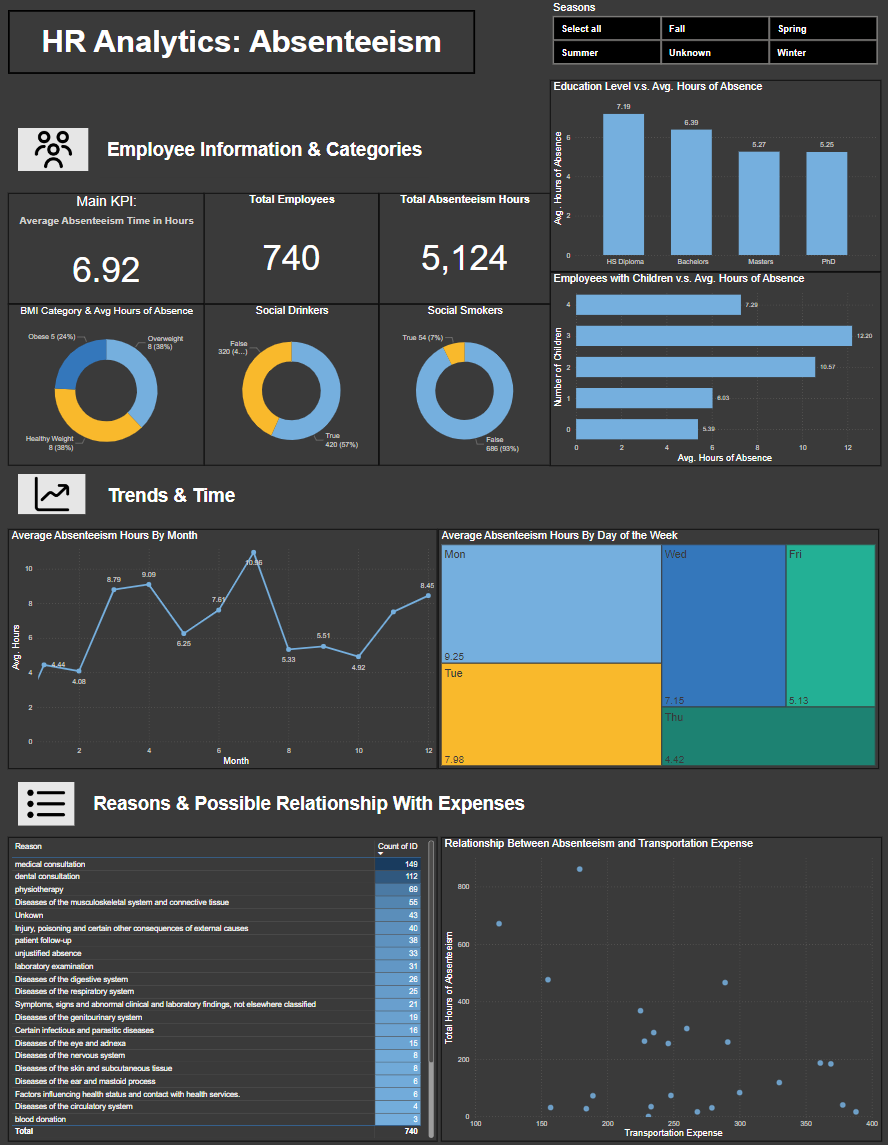

Layout of this report page (visuals, bound fields, positions):
{"tool":"powerbi","page":{"name":"Page 1","canvas":[1600,2000],"ordinal":0},"visuals":[{"type":"card","title":"Main KPI:","fields":{"Values":["Avg(Query2.Absenteeism_time_in_hours)"]},"box":[15.3,353.1,337.8,191.2],"z":0},{"type":"columnChart","title":"Education Level v.s. Avg. Hours of Absence","fields":{"Category":["Query2.Education_Level"],"Y":["Avg(Query2.Absenteeism_time_in_hours)"]},"box":[948.5,158.1,569.9,330.2],"z":1000},{"type":"donutChart","title":"BMI Category & Avg Hours of Absence","fields":{"Category":["Query2.BMI_Categeory"],"Y":["Avg(Query2.Absenteeism_time_in_hours)"]},"box":[15.3,544.4,337.8,277.9],"z":2000},{"type":"barChart","title":"Employees with Children v.s. Avg. Hours of Absence","fields":{"Category":["Query2.Children"],"Y":["Avg(Query2.Absenteeism_time_in_hours)"]},"box":[948.5,488.3,569.9,334],"z":3000},{"type":"donutChart","title":"Social Drinkers","fields":{"Y":["CountNonNull(Query2.ID)"],"Category":["Query2.Social_drinker"]},"box":[353.1,544.4,300.9,277.9],"z":4000},{"type":"donutChart","title":"Social Smokers","fields":{"Category":["Query2.Social_smoker"],"Y":["CountNonNull(Query2.ID)"]},"box":[654,544.4,294.5,277.9],"z":5000},{"type":"lineChart","title":"Average Absenteeism Hours By Month","fields":{"Category":["Query2.Month_of_absence"],"Y":["Avg(Query2.Absenteeism_time_in_hours)"]},"box":[15.3,932,739.4,413.1],"z":6000},{"type":"treemap","title":"Average Absenteeism Hours By Day of the Week","fields":{"Group":["Query2.Day_of_Week"],"Values":["Avg(Query2.Absenteeism_time_in_hours)"]},"box":[754.7,932,758.6,413.1],"z":7000},{"type":"tableEx","fields":{"Values":["Query2.Reason","CountNonNull(Query2.ID)"]},"box":[15.3,1461,739.4,524],"z":8000},{"type":"scatterChart","title":"Relationship Between Absenteeism and Transportation Expense","fields":{"X":["Query2.Transportation_expense"],"Y":["Sum(Query2.Absenteeism_time_in_hours)"]},"box":[761.1,1461,758.6,524],"z":9000},{"type":"card","title":"Total Employees","fields":{"Values":["CountNonNull(Query2.ID)"]},"box":[353.1,353.1,300.9,191.2],"z":10000},{"type":"card","title":"Total Absenteeism Hours","fields":{"Values":["Sum(Query2.Absenteeism_time_in_hours)"]},"box":[654,353.1,294.5,191.2],"z":11000},{"type":"advancedSlicerVisual","title":"Seasons","fields":{"Values":["Query2.Season_Names"]},"box":[947.9,22.1,571.1,114.8],"z":12000},{"type":"textbox","box":[15.3,38.2,804.5,109.6],"z":13000},{"type":"textbox","box":[149.7,1366.6,855.4,86.1],"z":14000},{"type":"image","box":[31.9,241,121.1,73.9],"z":15000},{"type":"textbox","box":[173.4,836.3,244.8,68.8],"z":16000},{"type":"image","box":[31.9,836.3,116,68.8],"z":17000},{"type":"textbox","box":[173.4,241,566.1,85.4],"z":18000},{"type":"image","box":[31.9,1366.7,96.9,75.2],"z":19000}]}

Visuals, with their boxes on the page's 1600x2000 design canvas (x1, y1, x2, y2). These are canvas units, not pixel positions in the 888x1145 screenshot, which may show the page scaled, cropped or inside an application window:
"Main KPI:" card: (left=15, top=353, right=353, bottom=544)
"Education Level v.s. Avg. Hours of Absence" columnChart: (left=948, top=158, right=1518, bottom=488)
"BMI Category & Avg Hours of Absence" donutChart: (left=15, top=544, right=353, bottom=822)
"Employees with Children v.s. Avg. Hours of Absence" barChart: (left=948, top=488, right=1518, bottom=822)
"Social Drinkers" donutChart: (left=353, top=544, right=654, bottom=822)
"Social Smokers" donutChart: (left=654, top=544, right=948, bottom=822)
"Average Absenteeism Hours By Month" lineChart: (left=15, top=932, right=755, bottom=1345)
"Average Absenteeism Hours By Day of the Week" treemap: (left=755, top=932, right=1513, bottom=1345)
tableEx - Query2.Reason x CountNonNull(Query2.ID): (left=15, top=1461, right=755, bottom=1985)
"Relationship Between Absenteeism and Transportation Expense" scatterChart: (left=761, top=1461, right=1520, bottom=1985)
"Total Employees" card: (left=353, top=353, right=654, bottom=544)
"Total Absenteeism Hours" card: (left=654, top=353, right=948, bottom=544)
"Seasons" advancedSlicerVisual: (left=948, top=22, right=1519, bottom=137)
textbox: (left=15, top=38, right=820, bottom=148)
textbox: (left=150, top=1367, right=1005, bottom=1453)
image: (left=32, top=241, right=153, bottom=315)
textbox: (left=173, top=836, right=418, bottom=905)
image: (left=32, top=836, right=148, bottom=905)
textbox: (left=173, top=241, right=740, bottom=326)
image: (left=32, top=1367, right=129, bottom=1442)
